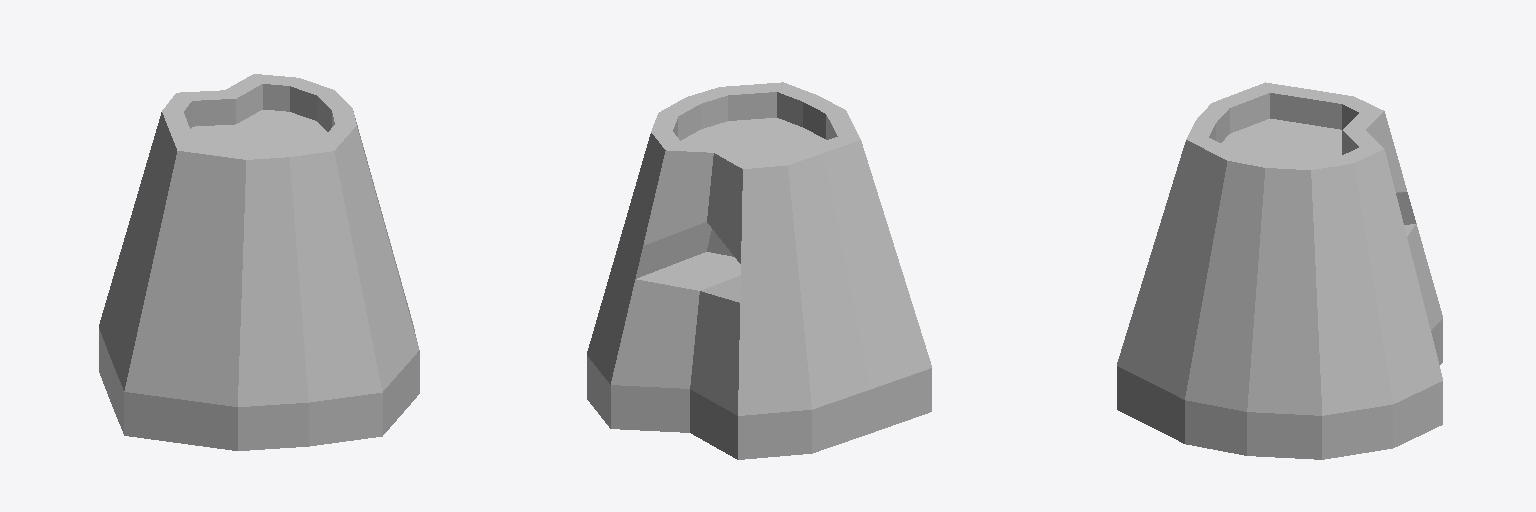
File: Volcano.obj
The picture shows the model from 3 angles: view 1: azimuth 30°, elevation 25°; view 2: azimuth 150°, elevation 25°; view 3: azimuth 270°, elevation 25°; orthographic projection.
Parts seen in each view (by area): view 1: Cylinder, Cylinder.001; view 2: Cylinder, Cylinder.001; view 3: Cylinder, Cylinder.001.
Part boxes in pixels (x1,y1,x2,y2): Cylinder: (99,74,419,450); Cylinder.001: (190,110,327,150); Cylinder: (587,82,931,459); Cylinder.001: (681,118,825,158); Cylinder: (1117,82,1442,459); Cylinder.001: (1221,119,1341,160).
Bounding box in the file's own units: 198 × 168 × 189.